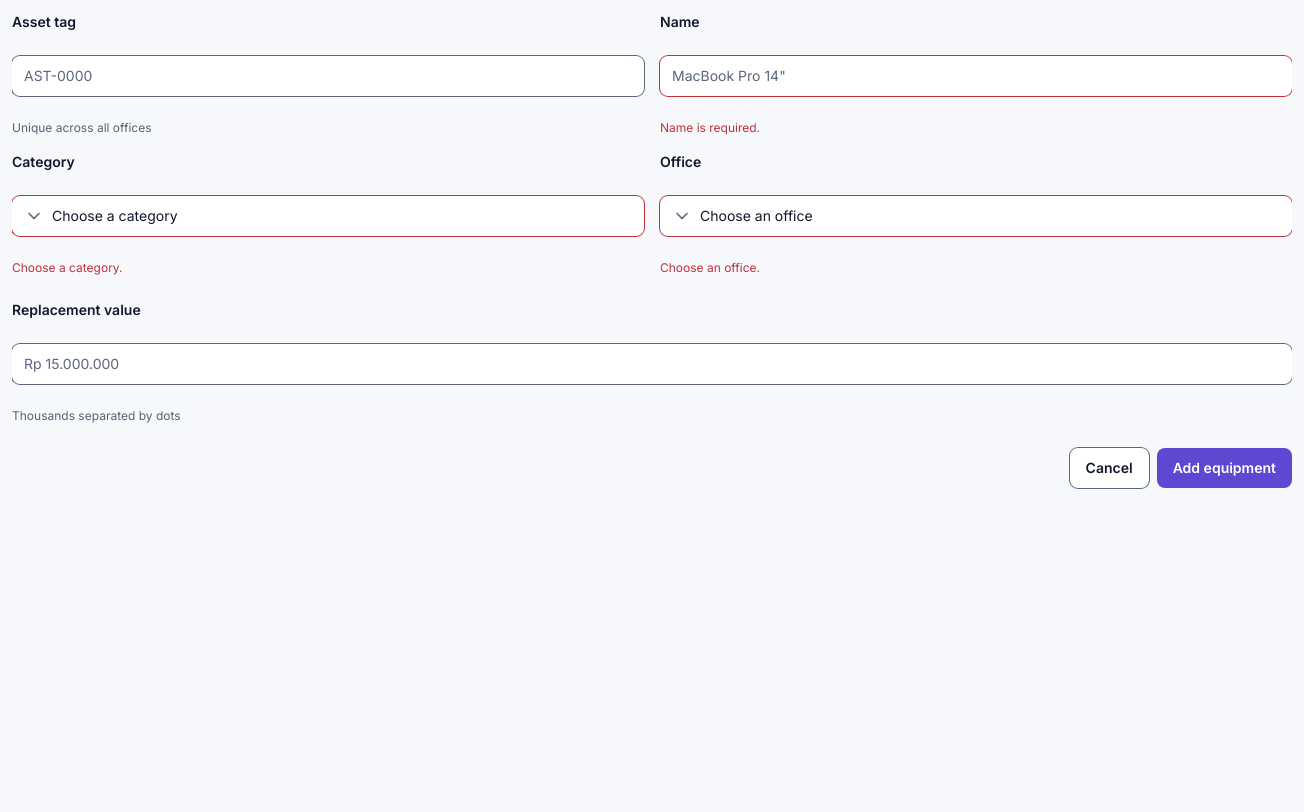
Test case: EquipmentForm › validates the empty add form on submit
What coordinates should you click on to do the following:
click the button "Add equipment"
I would click on:
 (1224, 468)
Its box is left=1157, top=448, right=1292, bottom=488.
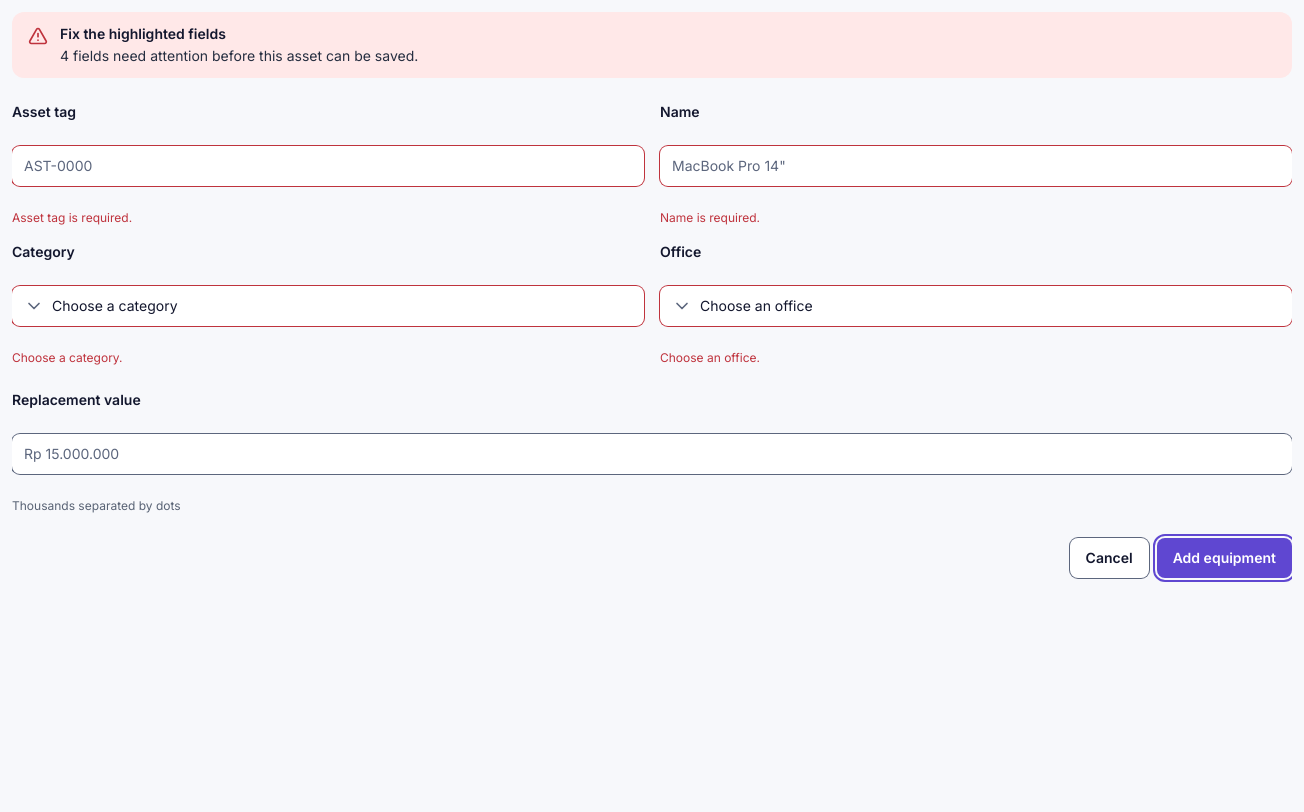
Check: the text "Name is required." is shown, box left=660, top=210, right=760, bottom=225
Check: the message shows "Fix the highlighted fields", box left=60, top=25, right=226, bottom=42
Check: the text "Asset tag is required." is shown, box left=12, top=210, right=132, bottom=225
